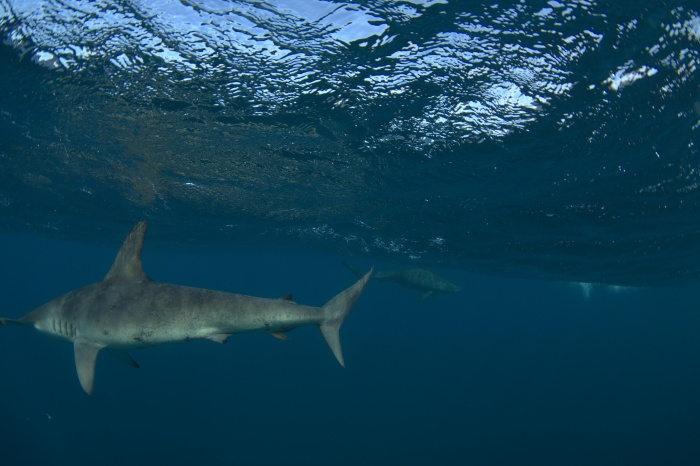Hammer: (1, 206, 389, 408)
